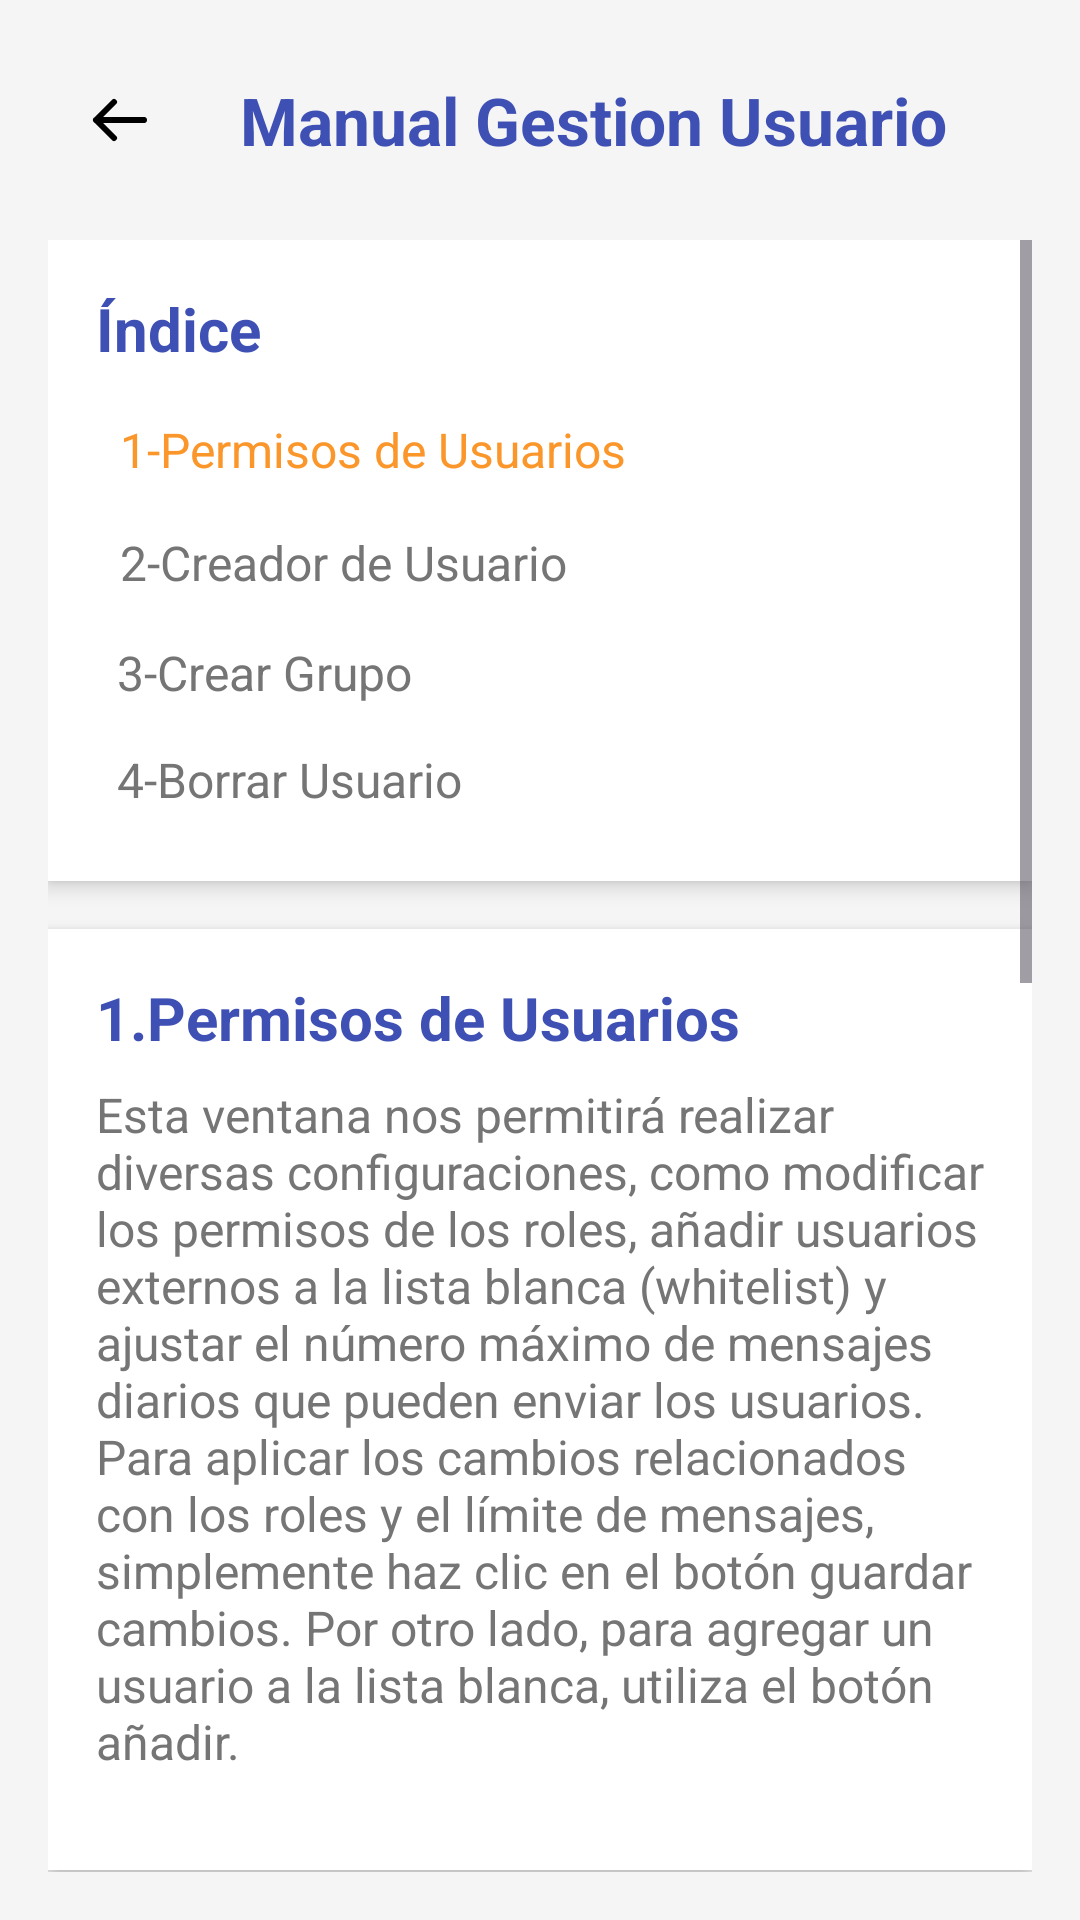

Screen size 1080x1920. Icon name, then its box in pixels as (x1, y1, x2, y2):
Volver atrás: (93, 99, 147, 141)
